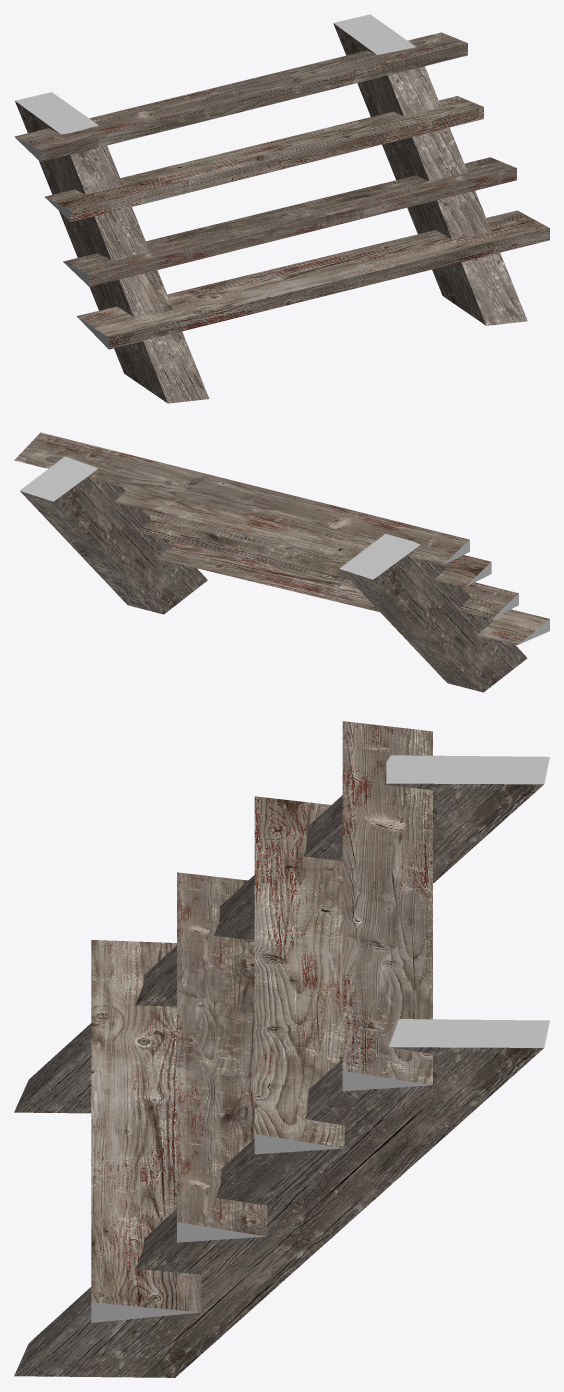
Rendered from Pier_Stairs3_LOD1.fbx.
3 renders of one model, top to bottom at view 1: azimuth 30°, elevation 25°; view 2: azimuth 150°, elevation 25°; view 3: azimuth 270°, elevation 25°, orthographic. The views are drawn at different scales.
Visible parts, largest first — view 1: Object045; view 2: Object045; view 3: Object045.
Part boxes in pixels (x1,y1,x2,y2): Object045: (14,14,549,403); Object045: (14,432,549,692); Object045: (14,721,549,1377).
Bounding box in the file's own units: 2.99 × 1.29 × 1.86.
